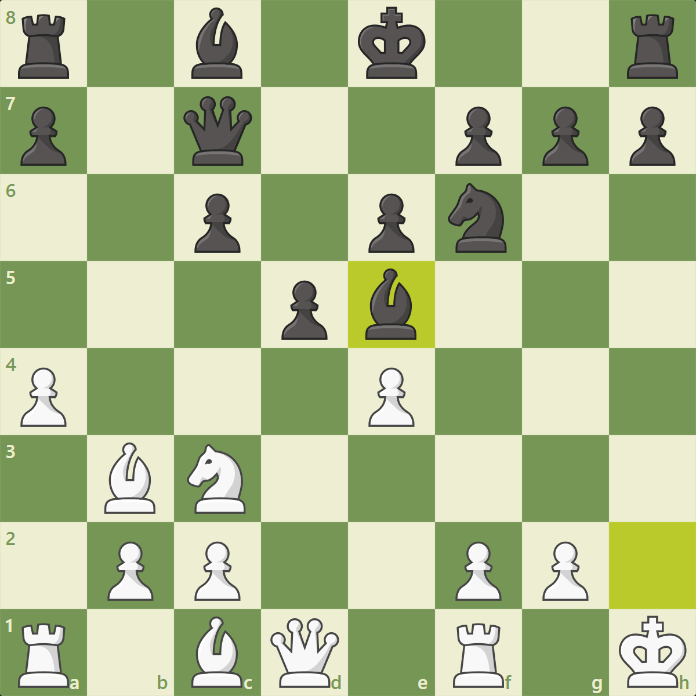B: (101, 440, 157, 516), (189, 614, 244, 690)
K: (617, 614, 689, 691)
N: (185, 442, 250, 516)
P: (540, 539, 590, 605), (453, 538, 503, 604), (193, 537, 243, 603), (105, 539, 155, 605), (19, 364, 69, 430), (365, 364, 415, 430)
Q: (269, 616, 342, 691)
R: (16, 621, 72, 691), (451, 621, 506, 692)
b: (189, 5, 245, 82), (363, 266, 419, 342)
k: (355, 4, 428, 82)
n: (446, 182, 512, 256)
p: (279, 279, 331, 342), (192, 192, 244, 255), (365, 191, 417, 254), (452, 105, 504, 168), (539, 104, 591, 167), (626, 105, 678, 168), (16, 104, 68, 167)
q: (181, 94, 256, 168)
r: (15, 11, 71, 81), (625, 12, 680, 82)
